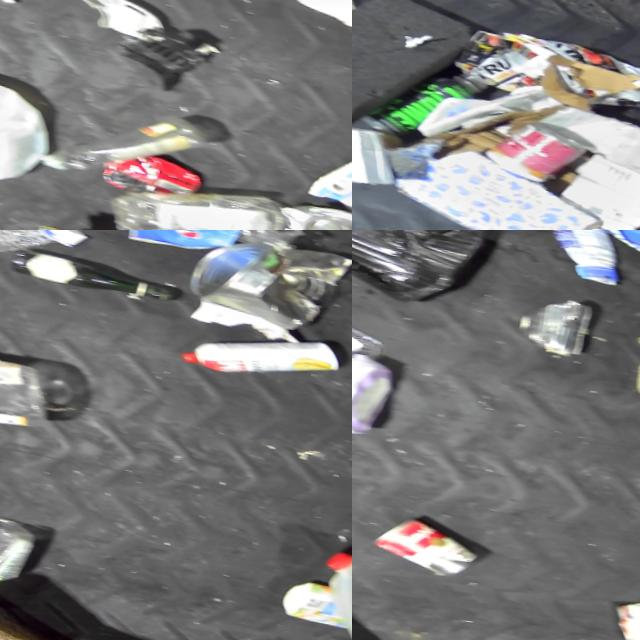can: (168, 314, 339, 389), (474, 110, 586, 187), (356, 508, 475, 580), (508, 287, 595, 357), (272, 197, 352, 230), (598, 590, 640, 640)
milk_jug: (0, 45, 55, 188), (301, 544, 352, 640)
non_white_jug: (352, 330, 394, 441), (555, 230, 640, 265)
plastic_bottle: (25, 90, 208, 194), (0, 230, 102, 267)
